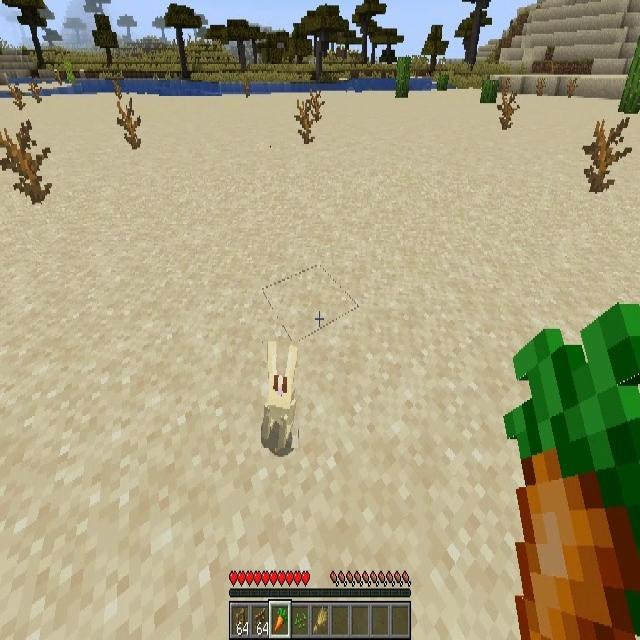rabbit: (261, 341, 298, 448)
